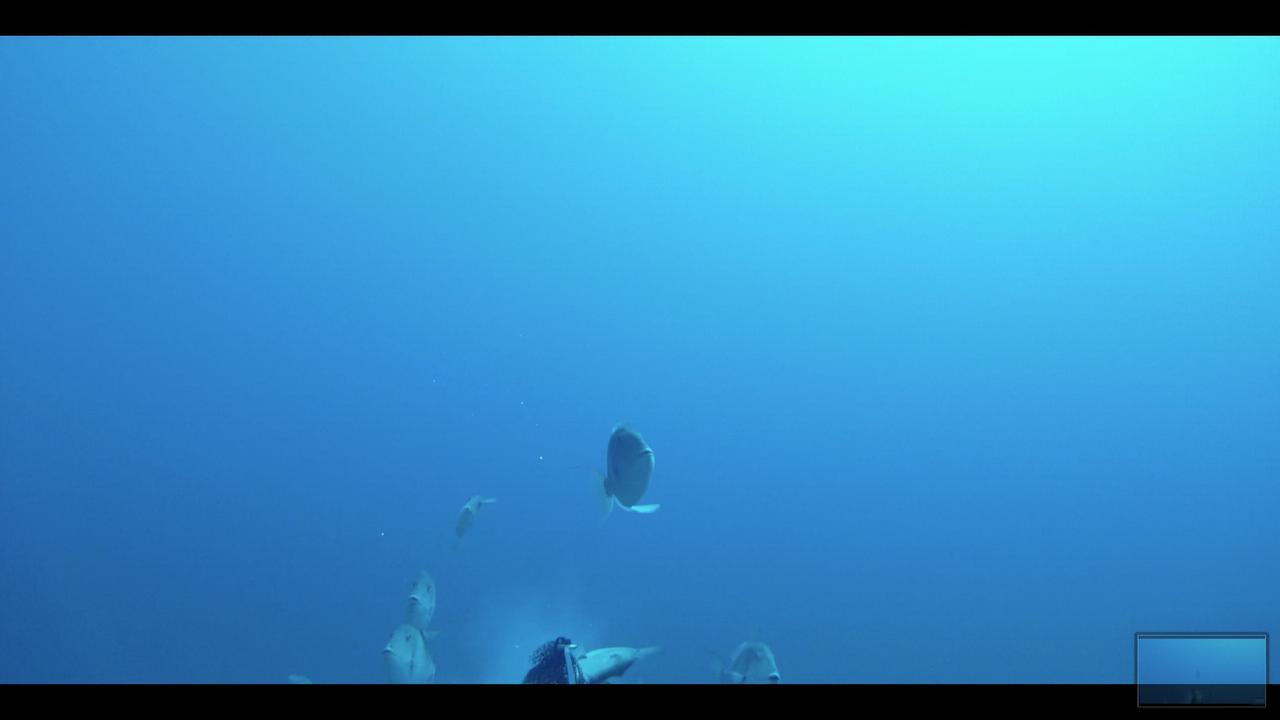balistes: (589, 418, 665, 521), (396, 556, 460, 642), (372, 621, 452, 679), (713, 631, 794, 683), (443, 488, 501, 547)
